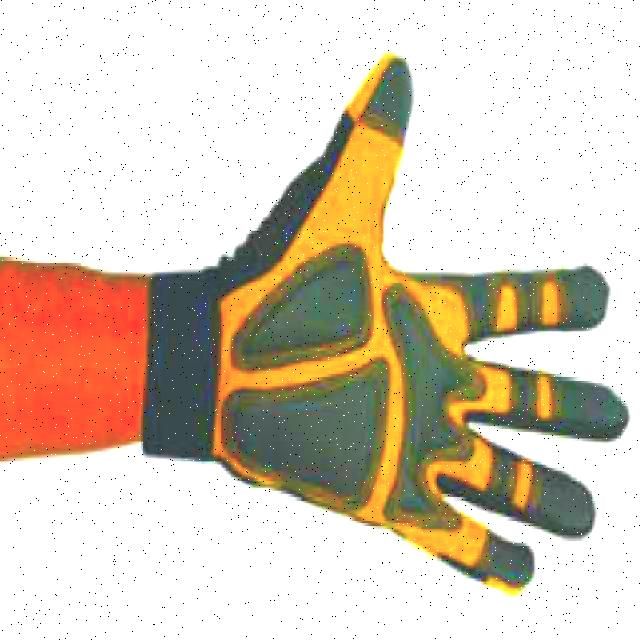Gloves: (150, 33, 630, 598)
